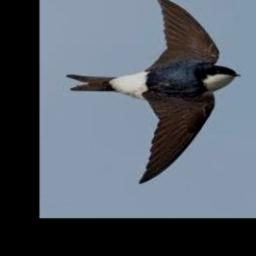Swallow: (65, 0, 242, 183)
